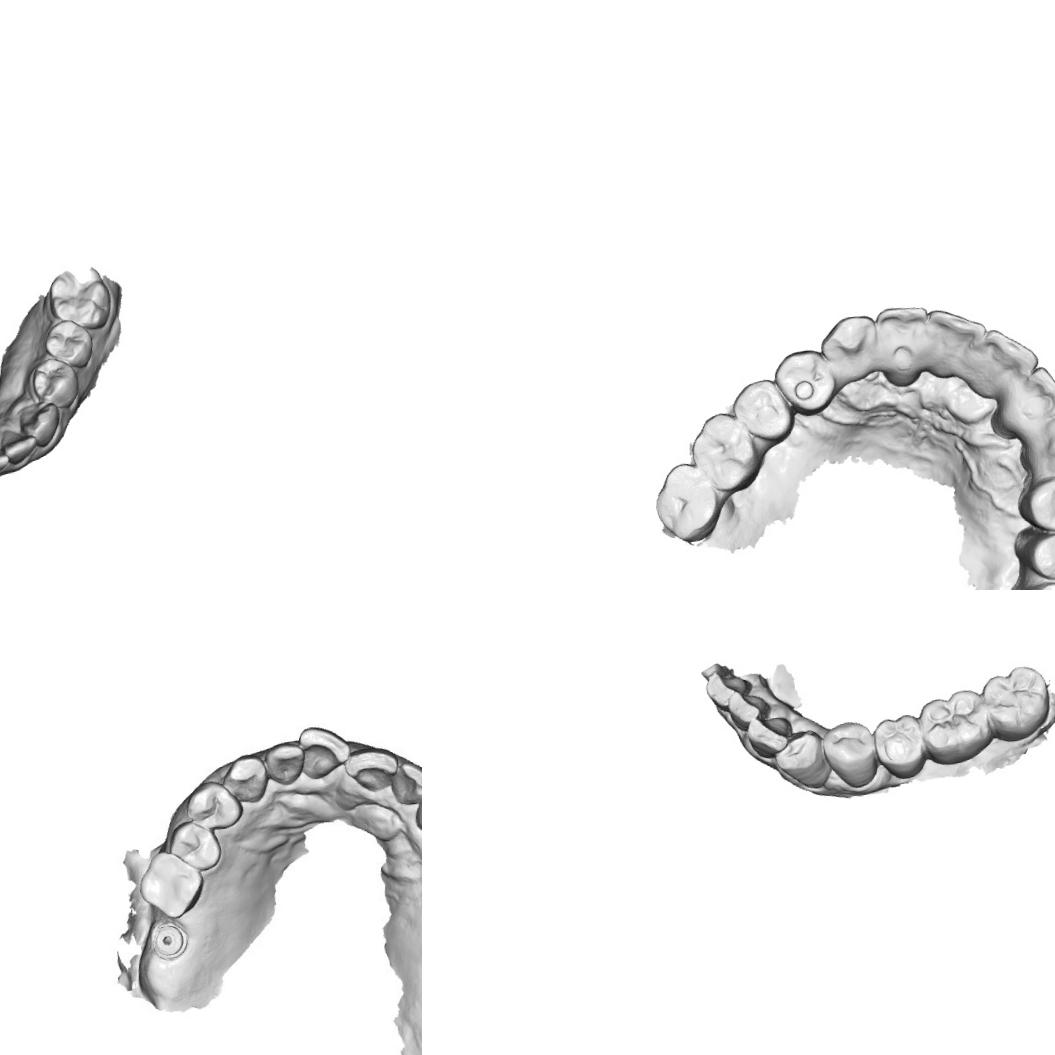canine: (815, 311, 880, 388), (771, 727, 834, 793), (1012, 407, 1055, 481), (222, 753, 269, 806), (17, 401, 65, 452), (411, 787, 422, 838)
implant: (146, 921, 190, 958)
incisor: (967, 322, 1044, 401), (923, 302, 992, 376), (870, 302, 937, 378), (996, 359, 1055, 438), (344, 740, 400, 794), (300, 724, 348, 778), (702, 667, 755, 714), (745, 714, 795, 760), (724, 687, 773, 730), (266, 740, 308, 785), (0, 425, 40, 466), (388, 760, 422, 807), (0, 435, 11, 476)
molar: (686, 408, 766, 499), (650, 458, 728, 546), (917, 686, 996, 768), (980, 662, 1054, 745), (44, 264, 115, 334), (137, 850, 202, 920)
premolar: (770, 346, 841, 421), (726, 375, 796, 448), (819, 718, 881, 792), (872, 712, 928, 782), (178, 778, 238, 835), (1011, 469, 1055, 539), (28, 355, 81, 412), (42, 316, 96, 371), (1009, 525, 1055, 589), (170, 821, 224, 875)
